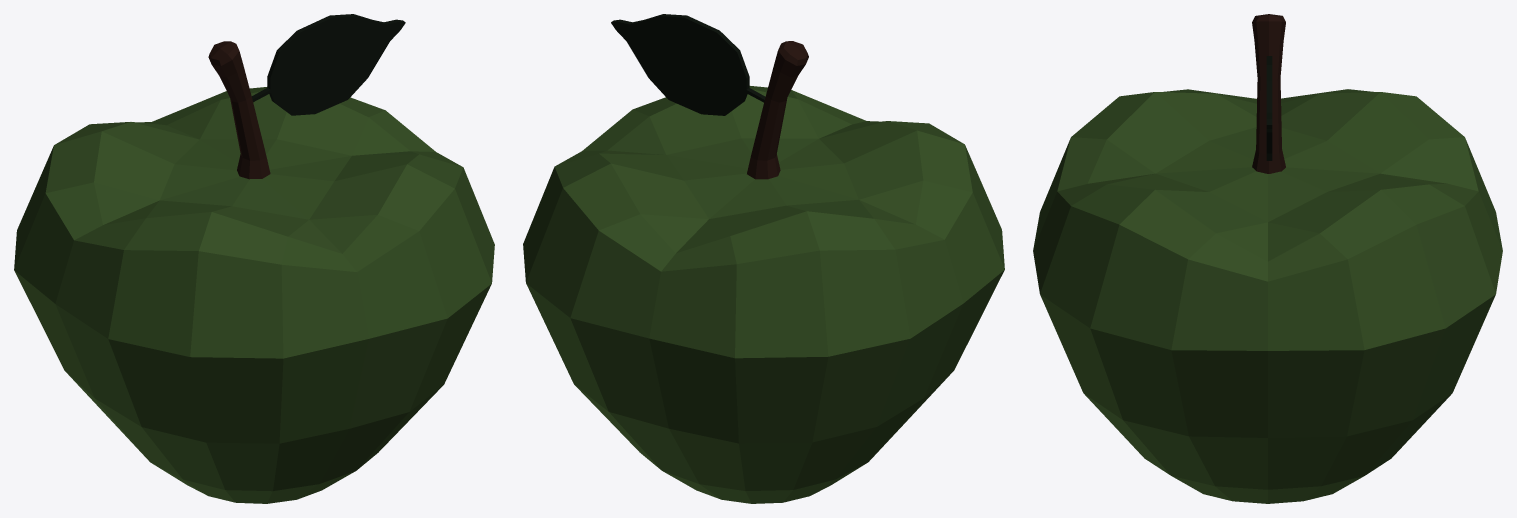
File: Apple_Green.obj
The picture shows the model from 3 angles, left to right: view 1: azimuth 30°, elevation 25°; view 2: azimuth 150°, elevation 25°; view 3: azimuth 270°, elevation 25°; orthographic projection. The views are drawn at different scales.
Visible parts, largest first — view 1: Apple_Green_Cube.039; view 2: Apple_Green_Cube.039; view 3: Apple_Green_Cube.039.
Part boxes in pixels (x1,y1,x2,y2): Apple_Green_Cube.039: (14,14,494,503); Apple_Green_Cube.039: (523,14,1004,503); Apple_Green_Cube.039: (1033,14,1502,503).
Bounding box in the file's own units: 0.8025 × 0.8517 × 0.7987.
